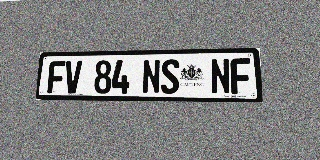4: (111, 60, 130, 94)
8: (94, 60, 112, 94)
F: (230, 58, 252, 94), (47, 61, 66, 93)
N: (210, 58, 231, 94), (142, 59, 160, 94)
S: (161, 59, 179, 94)
V: (64, 61, 82, 93)
